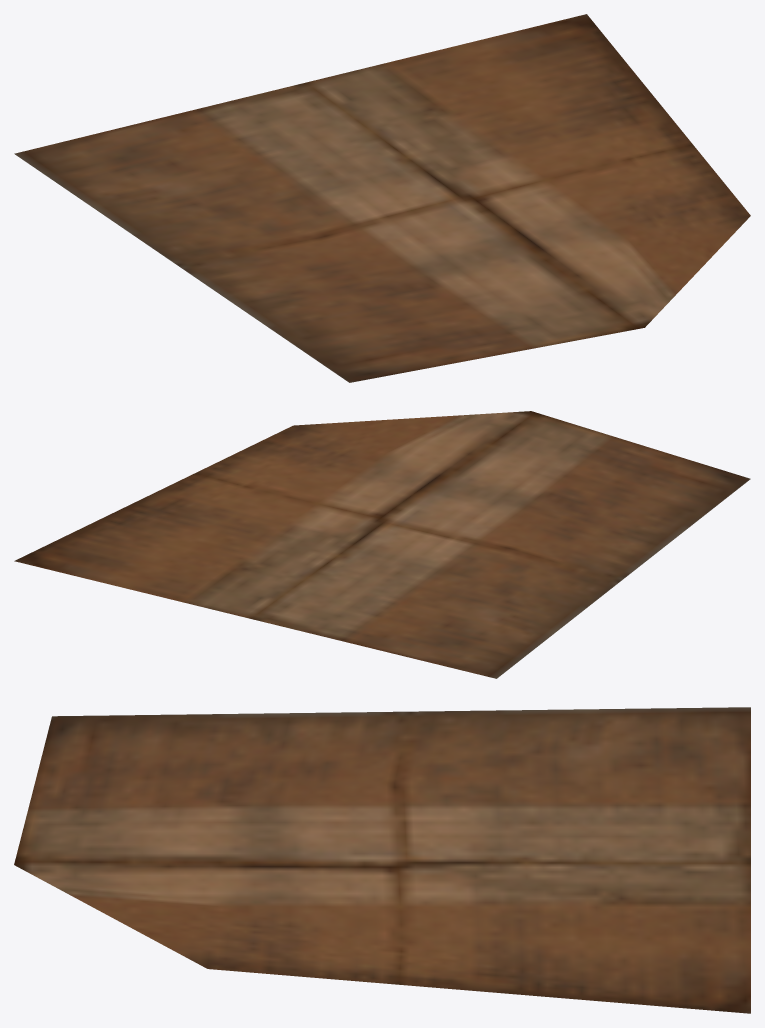
File: Plan.fbx
The picture shows the model from 3 angles, top to bottom: view 1: azimuth 30°, elevation 25°; view 2: azimuth 150°, elevation 25°; view 3: azimuth 270°, elevation 25°; orthographic projection. The views are drawn at different scales.
Parts seen in each view (by area): view 1: Plan; view 2: Plan; view 3: Plan.
Boxes of the visible parts, x1,y1,x2,y2 form: Plan: (14,14,750,382); Plan: (14,411,750,678); Plan: (14,707,750,1013).
Size of the model in its own units: 124 by 0 by 126.
